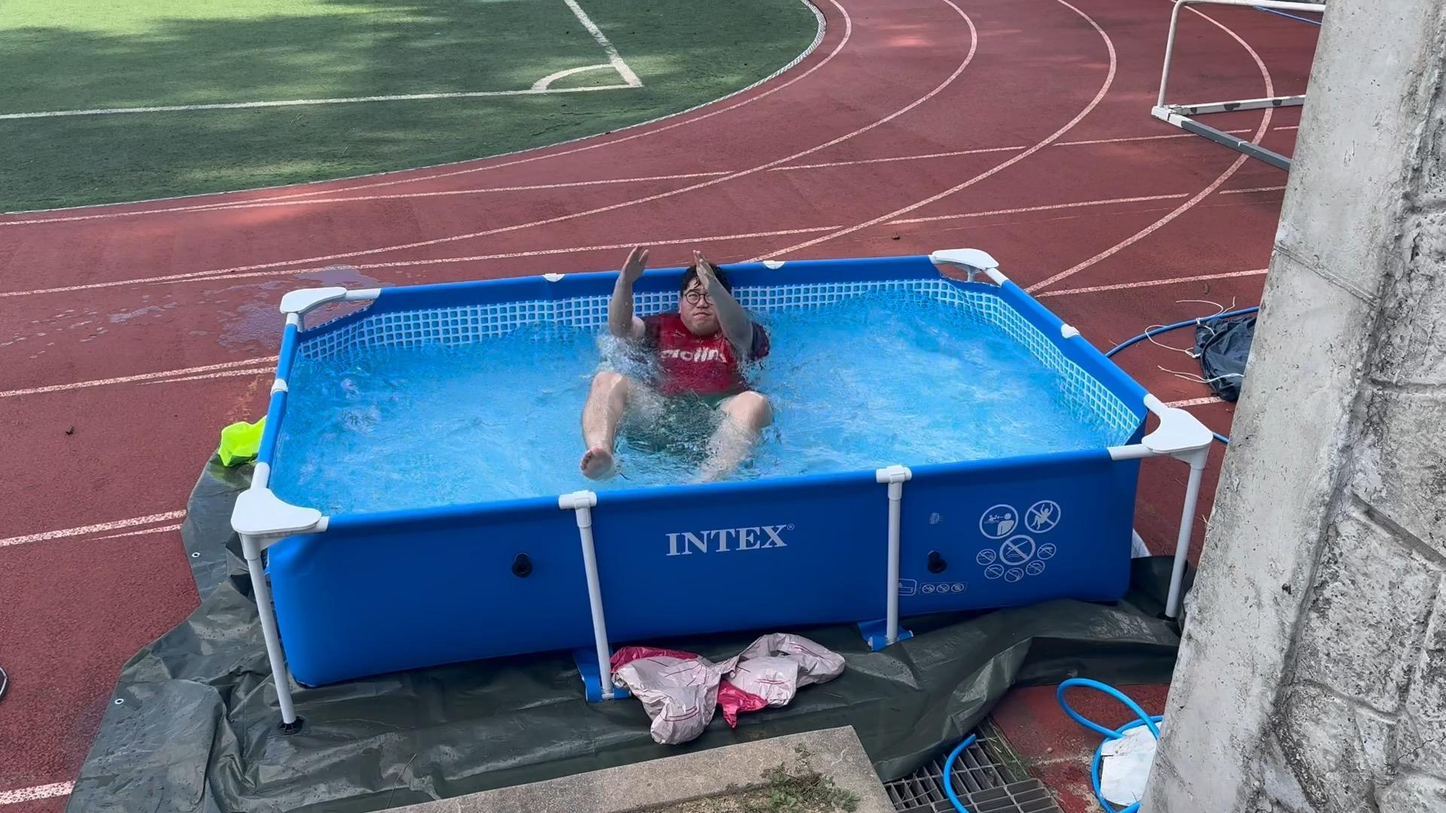Drowning: (564, 229, 771, 473)
